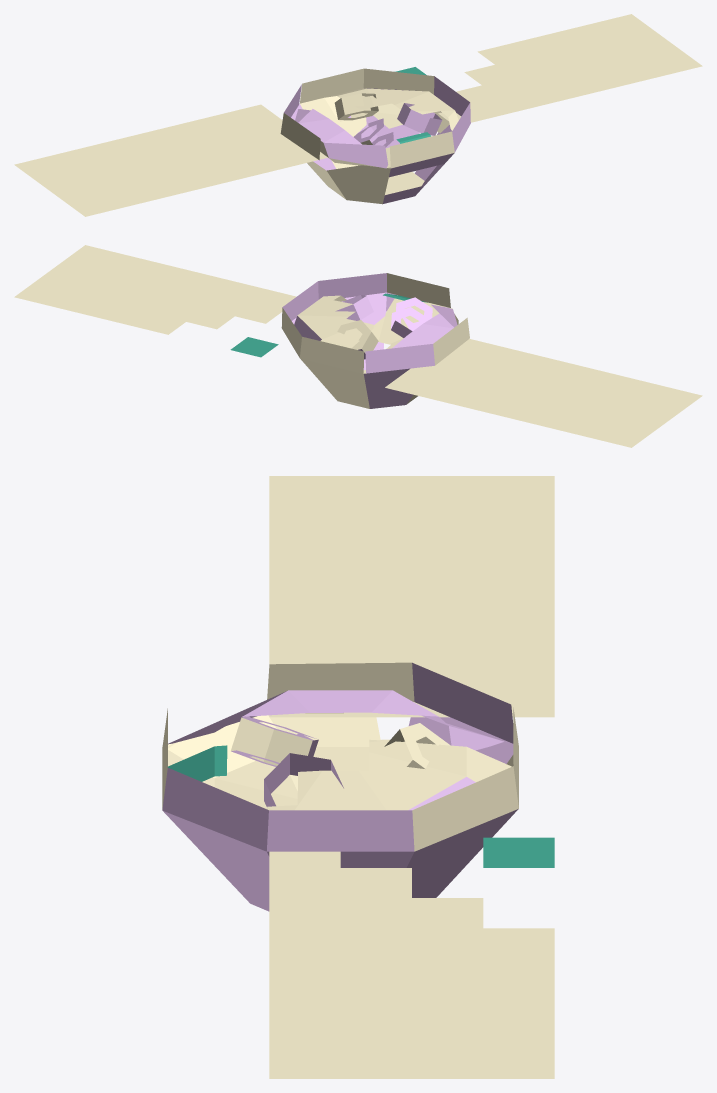
The model's file is plate.obj.
3 views of the same model, one above another, from view 1: azimuth 30°, elevation 25°; view 2: azimuth 150°, elevation 25°; view 3: azimuth 270°, elevation 25° (orthographic). The views are drawn at different scales.
Parts seen in each view (by area): view 1: plane, sphere, cylinder; view 2: plane, sphere, cylinder; view 3: plane, sphere, cylinder.
Part boxes in pixels (x1,y1,x2,y2): plane: [14, 14, 702, 216]; sphere: [280, 68, 470, 204]; cylinder: [334, 93, 442, 147]; plane: [14, 245, 702, 447]; sphere: [281, 273, 469, 408]; cylinder: [335, 295, 432, 359]; plane: [269, 476, 554, 1078]; sphere: [162, 662, 518, 911]; cylinder: [231, 716, 450, 806].
Size of the model in its own units: 2.5 by 0.3075 by 0.6875.
